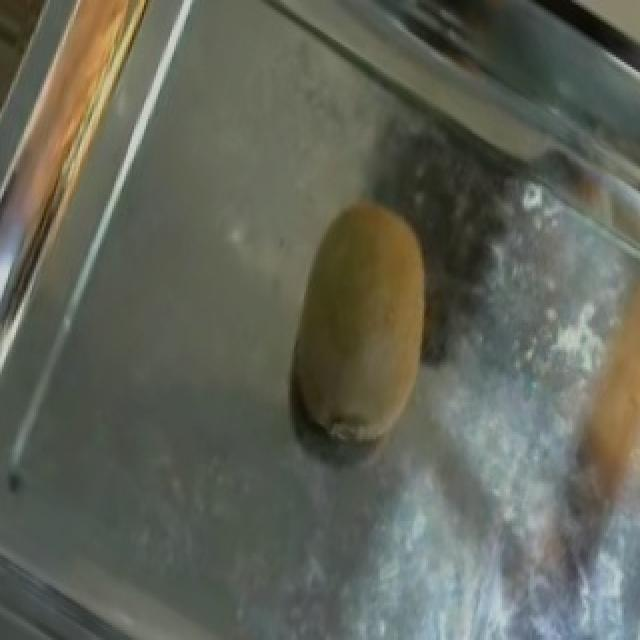Fruit: (248, 166, 484, 476), (548, 238, 640, 541), (528, 0, 640, 122)
